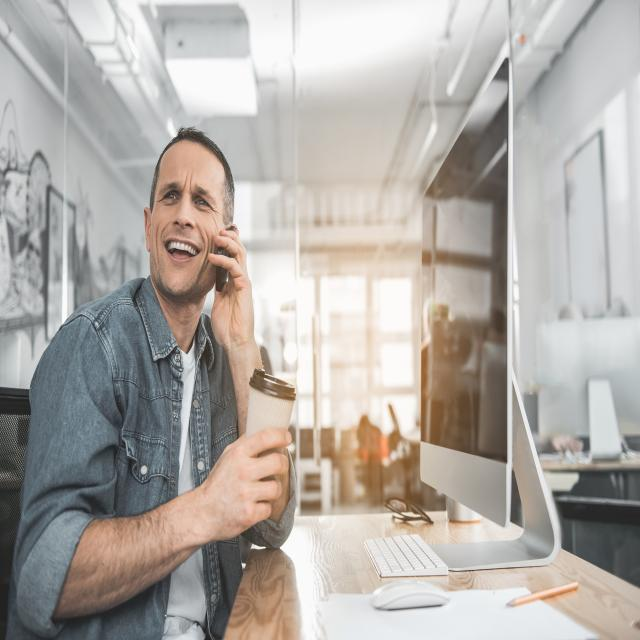Male: (150, 142, 224, 296)
